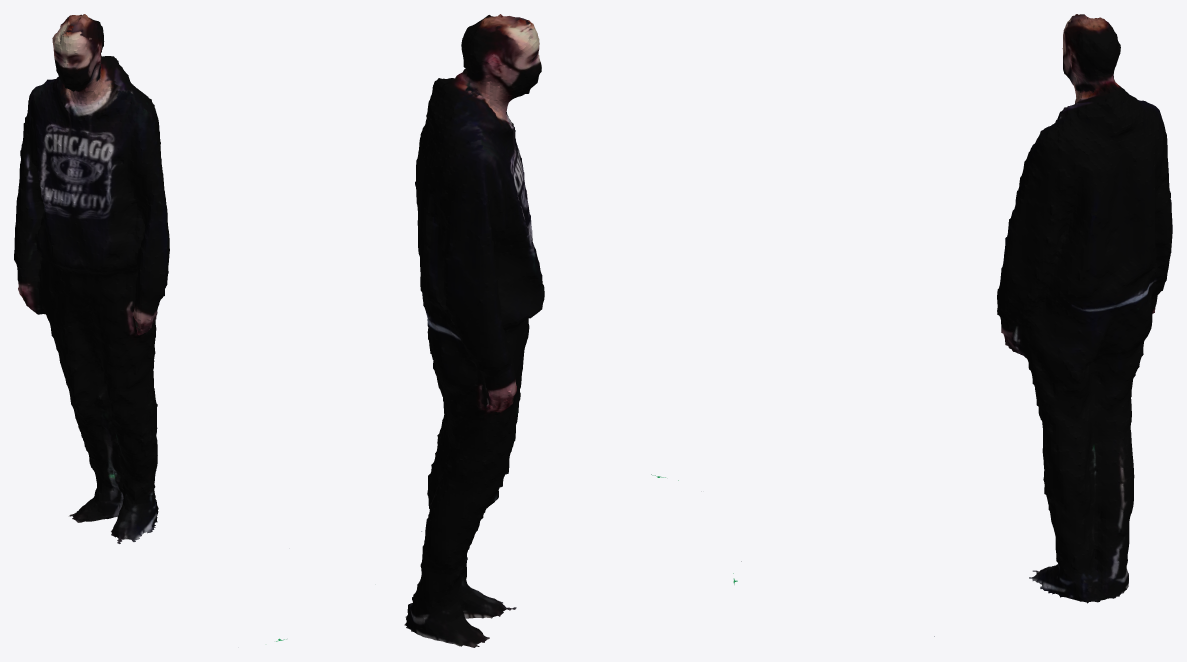
The model's file is Final_Rec2_72499682.0000341.obj.
The picture shows the model from 3 angles, left to right: view 1: azimuth 30°, elevation 25°; view 2: azimuth 150°, elevation 25°; view 3: azimuth 270°, elevation 25°; orthographic projection. The views are drawn at different scales.
Bounding box in the file's own units: 0.7208 × 1.77 × 1.29.
Materials: 1 (1 with a texture image).
